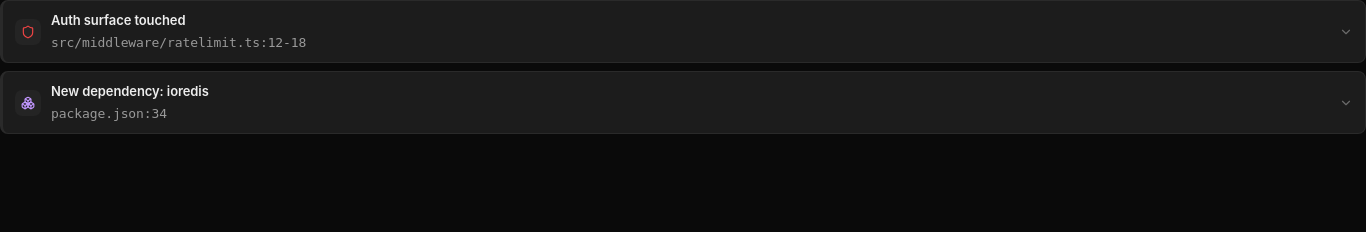
Test: RiskAreasList › clicking a risk row expands it inline to show its explanation + file refs
The width and height of the screenshot is (1366, 232).
Click the button "New dependency: ioredis package.json:34".
click(130, 91)  # box [0, 71, 1365, 134]
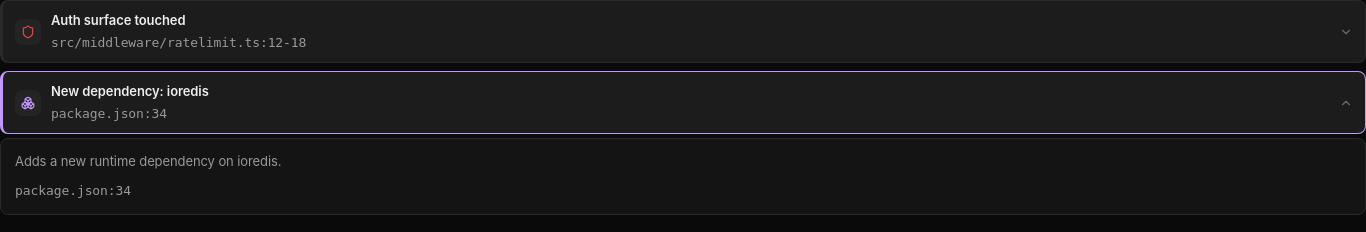
Result: the text "Adds a new runtime dependency on ioredis." is shown at [15, 153, 282, 169]
Result: the button "New dependency: ioredis package.json:34" is expanded at [0, 71, 1365, 134]
